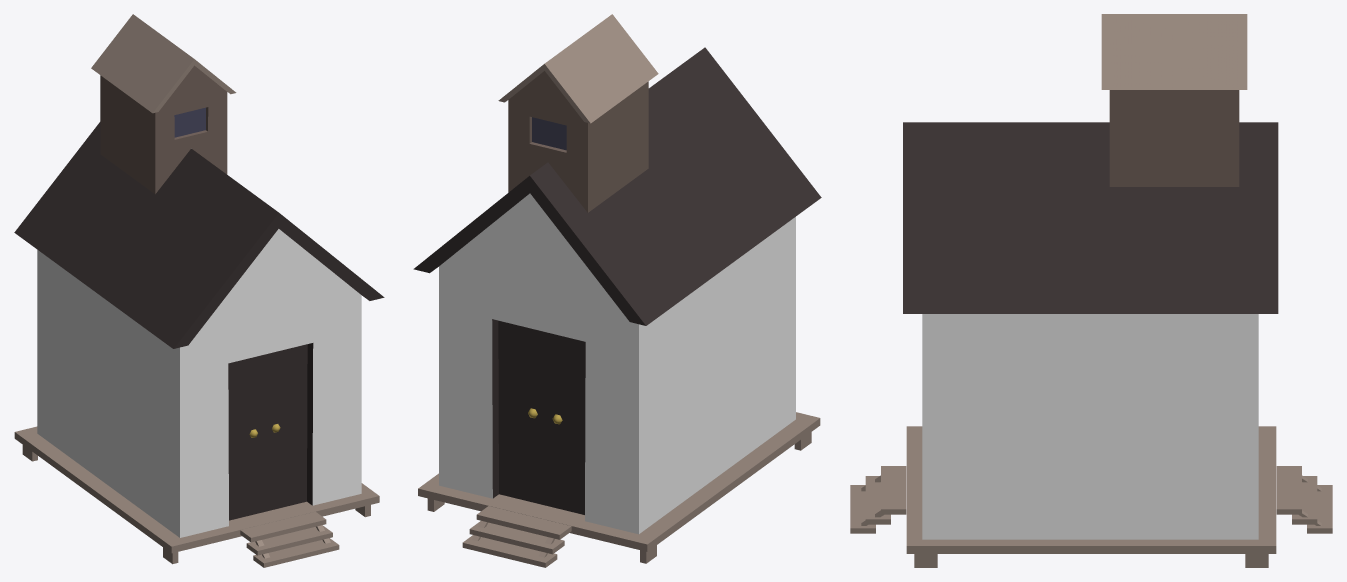
File: cabana.glb
3 renders of one model, left to right at view 1: azimuth 30°, elevation 25°; view 2: azimuth 150°, elevation 25°; view 3: azimuth 270°, elevation 25°, orthographic. The views are drawn at different scales.
Visible parts, largest first — view 1: SM_Cabana1; view 2: SM_Cabana1; view 3: SM_Cabana1.
Boxes of the visible parts, <box> form: SM_Cabana1: <box>14,14,384,567</box>; SM_Cabana1: <box>413,14,821,567</box>; SM_Cabana1: <box>850,14,1332,567</box>.
Bounding box in the file's own units: 2.63 × 5.02 × 4.4.
